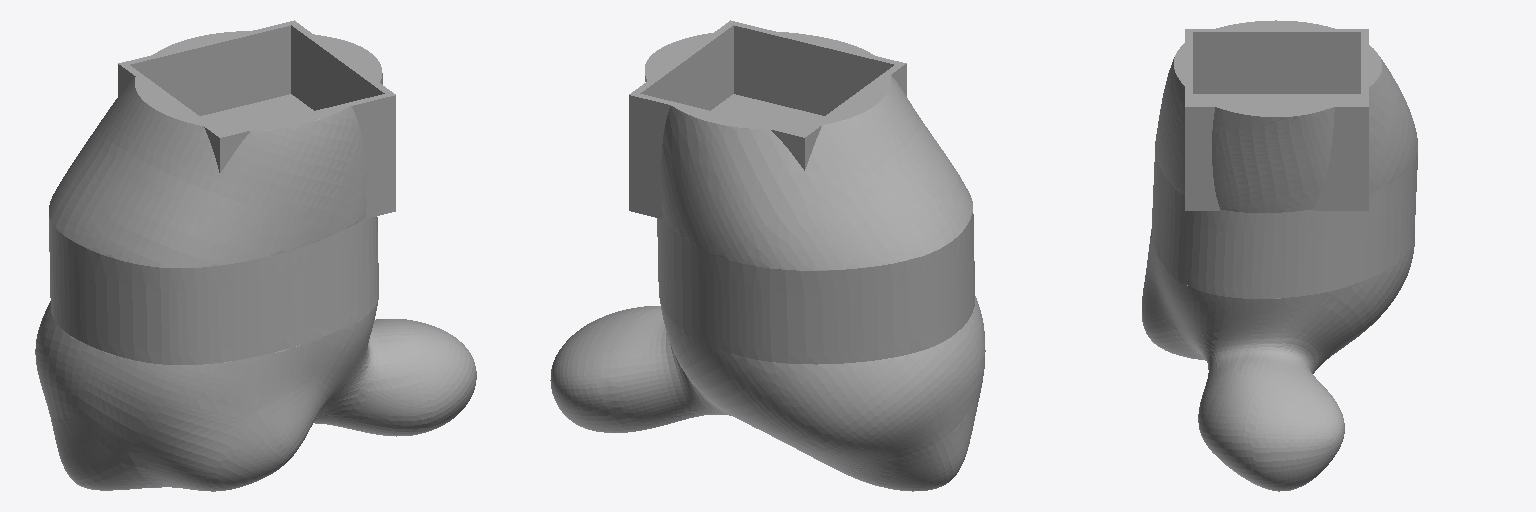
URDF robot description (FrogBot5_top-FrogBot5-y-5_bottom-FrogBot5-y-5):
<?xml version="1.0" ?>
<robot name="FrogBot5_top-FrogBot5-y-5_bottom-FrogBot5-y-5">

<material name="pla_5_percent_infill">
  <color rgba="0.700 0.700 0.700 1.000"/>
</material>

<link name="base_link">
  <inertial>
    <origin xyz="0 0 0" rpy="0 0 0"/>
    <mass value="1.4805118043364613"/>
    <inertia ixx="0.00519778244400068" iyy="0.011185972187213383" izz="0.012581059264896973" ixy="-0.0002102027550041139" iyz="-1.09064860282594e-05" ixz="-0.0008439426245005397"/>
  </inertial>
  <visual>
    <origin xyz="0 0 0" rpy="0 0 0"/>
    <geometry>
      <mesh filename="simple_meshes/base_link.stl" scale="0.001 0.001 0.001"/>
    </geometry>
    <material name="pla_5_percent_infill"/>
  </visual>
  <collision>
    <origin xyz="0 0 0" rpy="0 0 0"/>
    <geometry>
      <mesh filename="simple_meshes/base_link.stl" scale="0.001 0.001 0.001"/>
    </geometry>
  </collision>
</link>

<link name="body_1_0_1">
  <inertial>
    <origin xyz="-0.05492 -0.106321 -0.011198" rpy="0 0 0"/>
    <mass value="0.03711451372738464"/>
    <inertia ixx="3.671785019145968e-05" iyy="3.987383112760554e-05" izz="1.2304606334109856e-05" ixy="-9.940899163411211e-08" iyz="-1.8735610126096051e-06" ixz="-1.1217690975054271e-06"/>
  </inertial>
  <visual>
    <origin xyz="-0.05492 -0.106321 -0.011198" rpy="0 0 0"/>
    <geometry>
      <mesh filename="simple_meshes/body_1_0_1.stl" scale="0.001 0.001 0.001"/>
    </geometry>
    <material name="pla_5_percent_infill"/>
  </visual>
  <collision>
    <origin xyz="-0.05492 -0.106321 -0.011198" rpy="0 0 0"/>
    <geometry>
      <mesh filename="simple_meshes/body_1_0_1.stl" scale="0.001 0.001 0.001"/>
    </geometry>
  </collision>
</link>

<link name="body_1_1_1">
  <inertial>
    <origin xyz="0.058377 -0.106321 -0.025493" rpy="0 0 0"/>
    <mass value="0.06117736126397169"/>
    <inertia ixx="7.069727624296946e-05" iyy="9.275943513729868e-05" izz="3.9339902660342737e-05" ixy="-2.079837152035944e-06" iyz="-1.1791586446431275e-06" ixz="-2.769040140249878e-05"/>
  </inertial>
  <visual>
    <origin xyz="0.058377 -0.106321 -0.025493" rpy="0 0 0"/>
    <geometry>
      <mesh filename="simple_meshes/body_1_1_1.stl" scale="0.001 0.001 0.001"/>
    </geometry>
    <material name="pla_5_percent_infill"/>
  </visual>
  <collision>
    <origin xyz="0.058377 -0.106321 -0.025493" rpy="0 0 0"/>
    <geometry>
      <mesh filename="simple_meshes/body_1_1_1.stl" scale="0.001 0.001 0.001"/>
    </geometry>
  </collision>
</link>

<link name="body_1_2_1">
  <inertial>
    <origin xyz="-0.053934 0.106321 -0.032331" rpy="0 0 0"/>
    <mass value="0.05304952800894875"/>
    <inertia ixx="6.69077467258302e-05" iyy="7.27510516605983e-05" izz="1.8464341465371974e-05" ixy="1.576546002354318e-07" iyz="-1.1769382575634165e-07" ixz="7.716171943928773e-06"/>
  </inertial>
  <visual>
    <origin xyz="-0.053934 0.106321 -0.032331" rpy="0 0 0"/>
    <geometry>
      <mesh filename="simple_meshes/body_1_2_1.stl" scale="0.001 0.001 0.001"/>
    </geometry>
    <material name="pla_5_percent_infill"/>
  </visual>
  <collision>
    <origin xyz="-0.053934 0.106321 -0.032331" rpy="0 0 0"/>
    <geometry>
      <mesh filename="simple_meshes/body_1_2_1.stl" scale="0.001 0.001 0.001"/>
    </geometry>
  </collision>
</link>

<link name="body_1_3_1">
  <inertial>
    <origin xyz="0.057483 0.106321 -0.032919" rpy="0 0 0"/>
    <mass value="0.059183526371658086"/>
    <inertia ixx="7.312272007267413e-05" iyy="9.024549727494656e-05" izz="3.159639058488025e-05" ixy="-5.990066593413714e-07" iyz="-2.2484138518548272e-06" ixz="-2.396124800450735e-05"/>
  </inertial>
  <visual>
    <origin xyz="0.057483 0.106321 -0.032919" rpy="0 0 0"/>
    <geometry>
      <mesh filename="simple_meshes/body_1_3_1.stl" scale="0.001 0.001 0.001"/>
    </geometry>
    <material name="pla_5_percent_infill"/>
  </visual>
  <collision>
    <origin xyz="0.057483 0.106321 -0.032919" rpy="0 0 0"/>
    <geometry>
      <mesh filename="simple_meshes/body_1_3_1.stl" scale="0.001 0.001 0.001"/>
    </geometry>
  </collision>
</link>

<link name="body_2_0_1">
  <inertial>
    <origin xyz="-0.051784 -0.143449 0.095454" rpy="0 0 0"/>
    <mass value="0.08672427707368356"/>
    <inertia ixx="0.00010226774261984026" iyy="0.00010954328016436797" izz="9.586945066851135e-05" ixy="-4.560368614360956e-06" iyz="4.49910869813365e-06" ixz="-2.8897807240912303e-06"/>
  </inertial>
  <visual>
    <origin xyz="-0.051784 -0.143449 0.095454" rpy="0 0 0"/>
    <geometry>
      <mesh filename="simple_meshes/body_2_0_1.stl" scale="0.001 0.001 0.001"/>
    </geometry>
    <material name="pla_5_percent_infill"/>
  </visual>
  <collision>
    <origin xyz="-0.051784 -0.143449 0.095454" rpy="0 0 0"/>
    <geometry>
      <mesh filename="simple_meshes/body_2_0_1.stl" scale="0.001 0.001 0.001"/>
    </geometry>
  </collision>
</link>

<link name="body_2_1_1">
  <inertial>
    <origin xyz="0.108798 -0.147527 0.095454" rpy="0 0 0"/>
    <mass value="0.11661792138643595"/>
    <inertia ixx="8.444283700630942e-05" iyy="0.00010746225471955362" izz="9.098946516368587e-05" ixy="-2.242105071401622e-06" iyz="3.7156790537971884e-07" ixz="-7.681209643396227e-07"/>
  </inertial>
  <visual>
    <origin xyz="0.108798 -0.147527 0.095454" rpy="0 0 0"/>
    <geometry>
      <mesh filename="simple_meshes/body_2_1_1.stl" scale="0.001 0.001 0.001"/>
    </geometry>
    <material name="pla_5_percent_infill"/>
  </visual>
  <collision>
    <origin xyz="0.108798 -0.147527 0.095454" rpy="0 0 0"/>
    <geometry>
      <mesh filename="simple_meshes/body_2_1_1.stl" scale="0.001 0.001 0.001"/>
    </geometry>
  </collision>
</link>

<link name="body_2_2_1">
  <inertial>
    <origin xyz="-0.065031 0.147225 0.095454" rpy="0 0 0"/>
    <mass value="0.0862088387323844"/>
    <inertia ixx="0.00010045473501741047" iyy="9.882183258246328e-05" izz="8.868702028926555e-05" ixy="6.039562573361703e-06" iyz="-3.400100279646757e-06" ixz="-5.696055955214116e-06"/>
  </inertial>
  <visual>
    <origin xyz="-0.065031 0.147225 0.095454" rpy="0 0 0"/>
    <geometry>
      <mesh filename="simple_meshes/body_2_2_1.stl" scale="0.001 0.001 0.001"/>
    </geometry>
    <material name="pla_5_percent_infill"/>
  </visual>
  <collision>
    <origin xyz="-0.065031 0.147225 0.095454" rpy="0 0 0"/>
    <geometry>
      <mesh filename="simple_meshes/body_2_2_1.stl" scale="0.001 0.001 0.001"/>
    </geometry>
  </collision>
</link>

<link name="body_2_3_1">
  <inertial>
    <origin xyz="0.101339 0.151086 0.095454" rpy="0 0 0"/>
    <mass value="0.12700518263224841"/>
    <inertia ixx="0.00010483615823114051" iyy="0.00013783730681773184" izz="0.00010339356768823346" ixy="1.114347057439187e-06" iyz="-4.563613077275975e-06" ixz="6.614871949651643e-06"/>
  </inertial>
  <visual>
    <origin xyz="0.101339 0.151086 0.095454" rpy="0 0 0"/>
    <geometry>
      <mesh filename="simple_meshes/body_2_3_1.stl" scale="0.001 0.001 0.001"/>
    </geometry>
    <material name="pla_5_percent_infill"/>
  </visual>
  <collision>
    <origin xyz="0.101339 0.151086 0.095454" rpy="0 0 0"/>
    <geometry>
      <mesh filename="simple_meshes/body_2_3_1.stl" scale="0.001 0.001 0.001"/>
    </geometry>
  </collision>
</link>

<joint name="joint_1_0" type="revolute">
  <origin xyz="0.05492 0.106321 0.011198" rpy="0 0 0"/>
  <parent link="base_link"/>
  <child link="body_1_0_1"/>
  <axis xyz="0.0 0.0 -1.0"/>
  <limit upper="1.2" lower="-1.2" effort="3.8" velocity="5.4"/>
</joint>
<transmission name="joint_1_0_tran">
  <type>transmission_interface/SimpleTransmission</type>
  <joint name="joint_1_0">
    <hardwareInterface>PositionJointInterface</hardwareInterface>
  </joint>
  <actuator name="joint_1_0_actr">
    <hardwareInterface>PositionJointInterface</hardwareInterface>
    <mechanicalReduction>1</mechanicalReduction>
  </actuator>
</transmission>

<joint name="joint_1_1" type="revolute">
  <origin xyz="-0.058377 0.106321 0.025493" rpy="0 0 0"/>
  <parent link="base_link"/>
  <child link="body_1_1_1"/>
  <axis xyz="0.0 0.0 -1.0"/>
  <limit upper="1.2" lower="-1.2" effort="3.8" velocity="5.4"/>
</joint>
<transmission name="joint_1_1_tran">
  <type>transmission_interface/SimpleTransmission</type>
  <joint name="joint_1_1">
    <hardwareInterface>PositionJointInterface</hardwareInterface>
  </joint>
  <actuator name="joint_1_1_actr">
    <hardwareInterface>PositionJointInterface</hardwareInterface>
    <mechanicalReduction>1</mechanicalReduction>
  </actuator>
</transmission>

<joint name="joint_1_2" type="revolute">
  <origin xyz="0.053934 -0.106321 0.032331" rpy="0 0 0"/>
  <parent link="base_link"/>
  <child link="body_1_2_1"/>
  <axis xyz="0.0 0.0 -1.0"/>
  <limit upper="1.2" lower="-1.2" effort="3.8" velocity="5.4"/>
</joint>
<transmission name="joint_1_2_tran">
  <type>transmission_interface/SimpleTransmission</type>
  <joint name="joint_1_2">
    <hardwareInterface>PositionJointInterface</hardwareInterface>
  </joint>
  <actuator name="joint_1_2_actr">
    <hardwareInterface>PositionJointInterface</hardwareInterface>
    <mechanicalReduction>1</mechanicalReduction>
  </actuator>
</transmission>

<joint name="joint_1_3" type="revolute">
  <origin xyz="-0.057483 -0.106321 0.032919" rpy="0 0 0"/>
  <parent link="base_link"/>
  <child link="body_1_3_1"/>
  <axis xyz="0.0 0.0 -1.0"/>
  <limit upper="1.2" lower="-1.2" effort="3.8" velocity="5.4"/>
</joint>
<transmission name="joint_1_3_tran">
  <type>transmission_interface/SimpleTransmission</type>
  <joint name="joint_1_3">
    <hardwareInterface>PositionJointInterface</hardwareInterface>
  </joint>
  <actuator name="joint_1_3_actr">
    <hardwareInterface>PositionJointInterface</hardwareInterface>
    <mechanicalReduction>1</mechanicalReduction>
  </actuator>
</transmission>

<joint name="joint_2_0" type="revolute">
  <origin xyz="-0.003136 0.037128 -0.106652" rpy="0 0 0"/>
  <parent link="body_1_0_1"/>
  <child link="body_2_0_1"/>
  <axis xyz="0.0 1.0 0.0"/>
  <limit upper="1.2" lower="-1.2" effort="3.8" velocity="5.4"/>
</joint>
<transmission name="joint_2_0_tran">
  <type>transmission_interface/SimpleTransmission</type>
  <joint name="joint_2_0">
    <hardwareInterface>PositionJointInterface</hardwareInterface>
  </joint>
  <actuator name="joint_2_0_actr">
    <hardwareInterface>PositionJointInterface</hardwareInterface>
    <mechanicalReduction>1</mechanicalReduction>
  </actuator>
</transmission>

<joint name="joint_2_1" type="revolute">
  <origin xyz="-0.050421 0.041206 -0.120947" rpy="0 0 0"/>
  <parent link="body_1_1_1"/>
  <child link="body_2_1_1"/>
  <axis xyz="0.0 1.0 0.0"/>
  <limit upper="1.2" lower="-1.2" effort="3.8" velocity="5.4"/>
</joint>
<transmission name="joint_2_1_tran">
  <type>transmission_interface/SimpleTransmission</type>
  <joint name="joint_2_1">
    <hardwareInterface>PositionJointInterface</hardwareInterface>
  </joint>
  <actuator name="joint_2_1_actr">
    <hardwareInterface>PositionJointInterface</hardwareInterface>
    <mechanicalReduction>1</mechanicalReduction>
  </actuator>
</transmission>

<joint name="joint_2_2" type="revolute">
  <origin xyz="0.011097 -0.040904 -0.127785" rpy="0 0 0"/>
  <parent link="body_1_2_1"/>
  <child link="body_2_2_1"/>
  <axis xyz="0.0 1.0 0.0"/>
  <limit upper="1.2" lower="-1.2" effort="3.8" velocity="5.4"/>
</joint>
<transmission name="joint_2_2_tran">
  <type>transmission_interface/SimpleTransmission</type>
  <joint name="joint_2_2">
    <hardwareInterface>PositionJointInterface</hardwareInterface>
  </joint>
  <actuator name="joint_2_2_actr">
    <hardwareInterface>PositionJointInterface</hardwareInterface>
    <mechanicalReduction>1</mechanicalReduction>
  </actuator>
</transmission>

<joint name="joint_2_3" type="revolute">
  <origin xyz="-0.043856 -0.044765 -0.128373" rpy="0 0 0"/>
  <parent link="body_1_3_1"/>
  <child link="body_2_3_1"/>
  <axis xyz="0.0 1.0 0.0"/>
  <limit upper="1.2" lower="-1.2" effort="3.8" velocity="5.4"/>
</joint>
<transmission name="joint_2_3_tran">
  <type>transmission_interface/SimpleTransmission</type>
  <joint name="joint_2_3">
    <hardwareInterface>PositionJointInterface</hardwareInterface>
  </joint>
  <actuator name="joint_2_3_actr">
    <hardwareInterface>PositionJointInterface</hardwareInterface>
    <mechanicalReduction>1</mechanicalReduction>
  </actuator>
</transmission>

</robot>

--- What the picture shows (computed from the rendered views, not written in the file) ---
3 views of the same robot in one strip: view 1: azimuth 30°, elevation 25°; view 2: azimuth 150°, elevation 25°; view 3: azimuth 270°, elevation 25° (orthographic).
Robot: FrogBot5_top-FrogBot5-y-5_bottom-FrogBot5-y-5 — 9 links, 8 joints (8 revolute); root link base_link; default pose: every joint at zero.
Links seen in each view (by area): view 1: body_2_3_1; view 2: body_2_3_1; view 3: body_2_3_1.
Boxes of the visible links, bbox=[...] form: body_2_3_1: bbox=[35, 20, 476, 491]; body_2_3_1: bbox=[550, 20, 985, 491]; body_2_3_1: bbox=[1142, 20, 1417, 491].
Bounding box of the posed robot: 0.1119 × 0.0731 × 0.1012 m (x, y, z).
1 mesh visuals loaded from 9 distinct referenced files (1 binary STL); not drawn: 8 (reference not matched to a file when rendering).